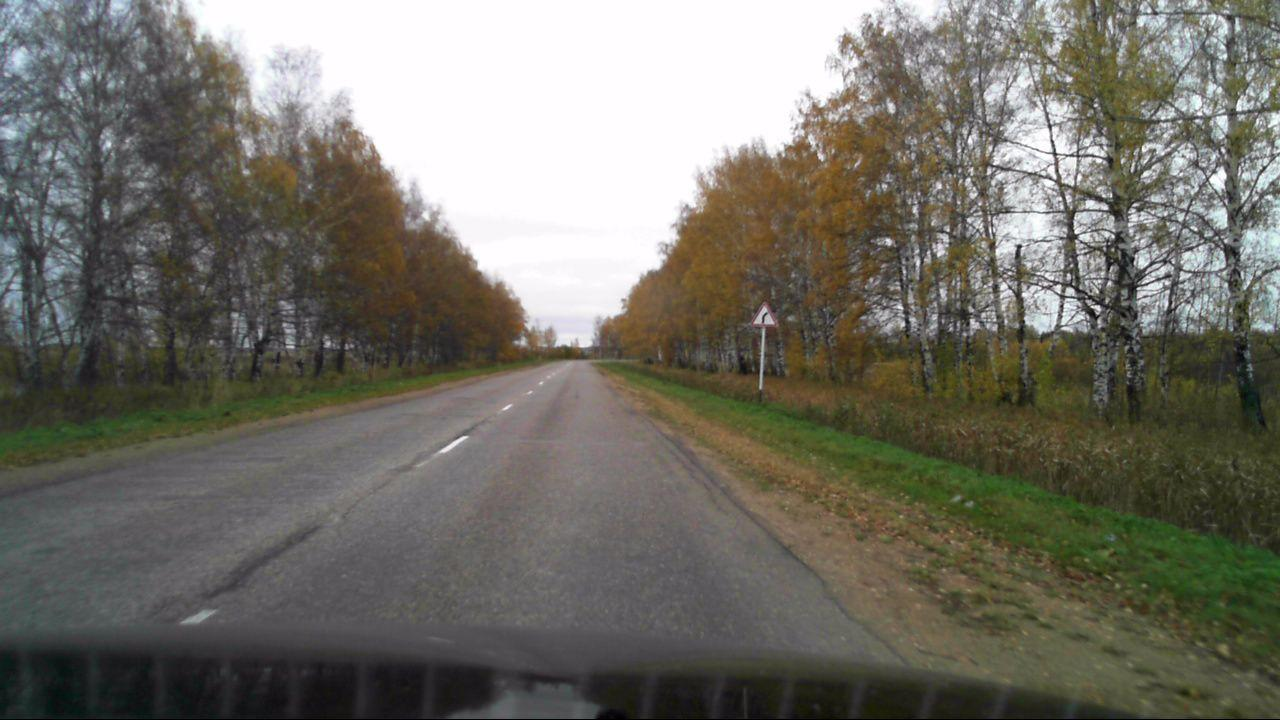road_sign: (747, 300, 781, 328)
